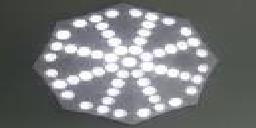LED: (31, 4, 221, 124)
